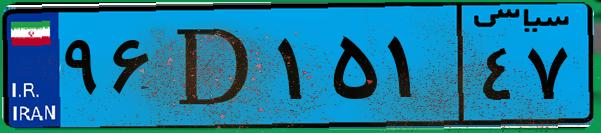1: (270, 28, 330, 110), (385, 28, 445, 110)
4: (475, 38, 525, 113)
5: (330, 28, 385, 110)
6: (110, 28, 158, 98)
7: (525, 38, 570, 115)
9: (57, 26, 110, 100)
D: (158, 12, 270, 120)
